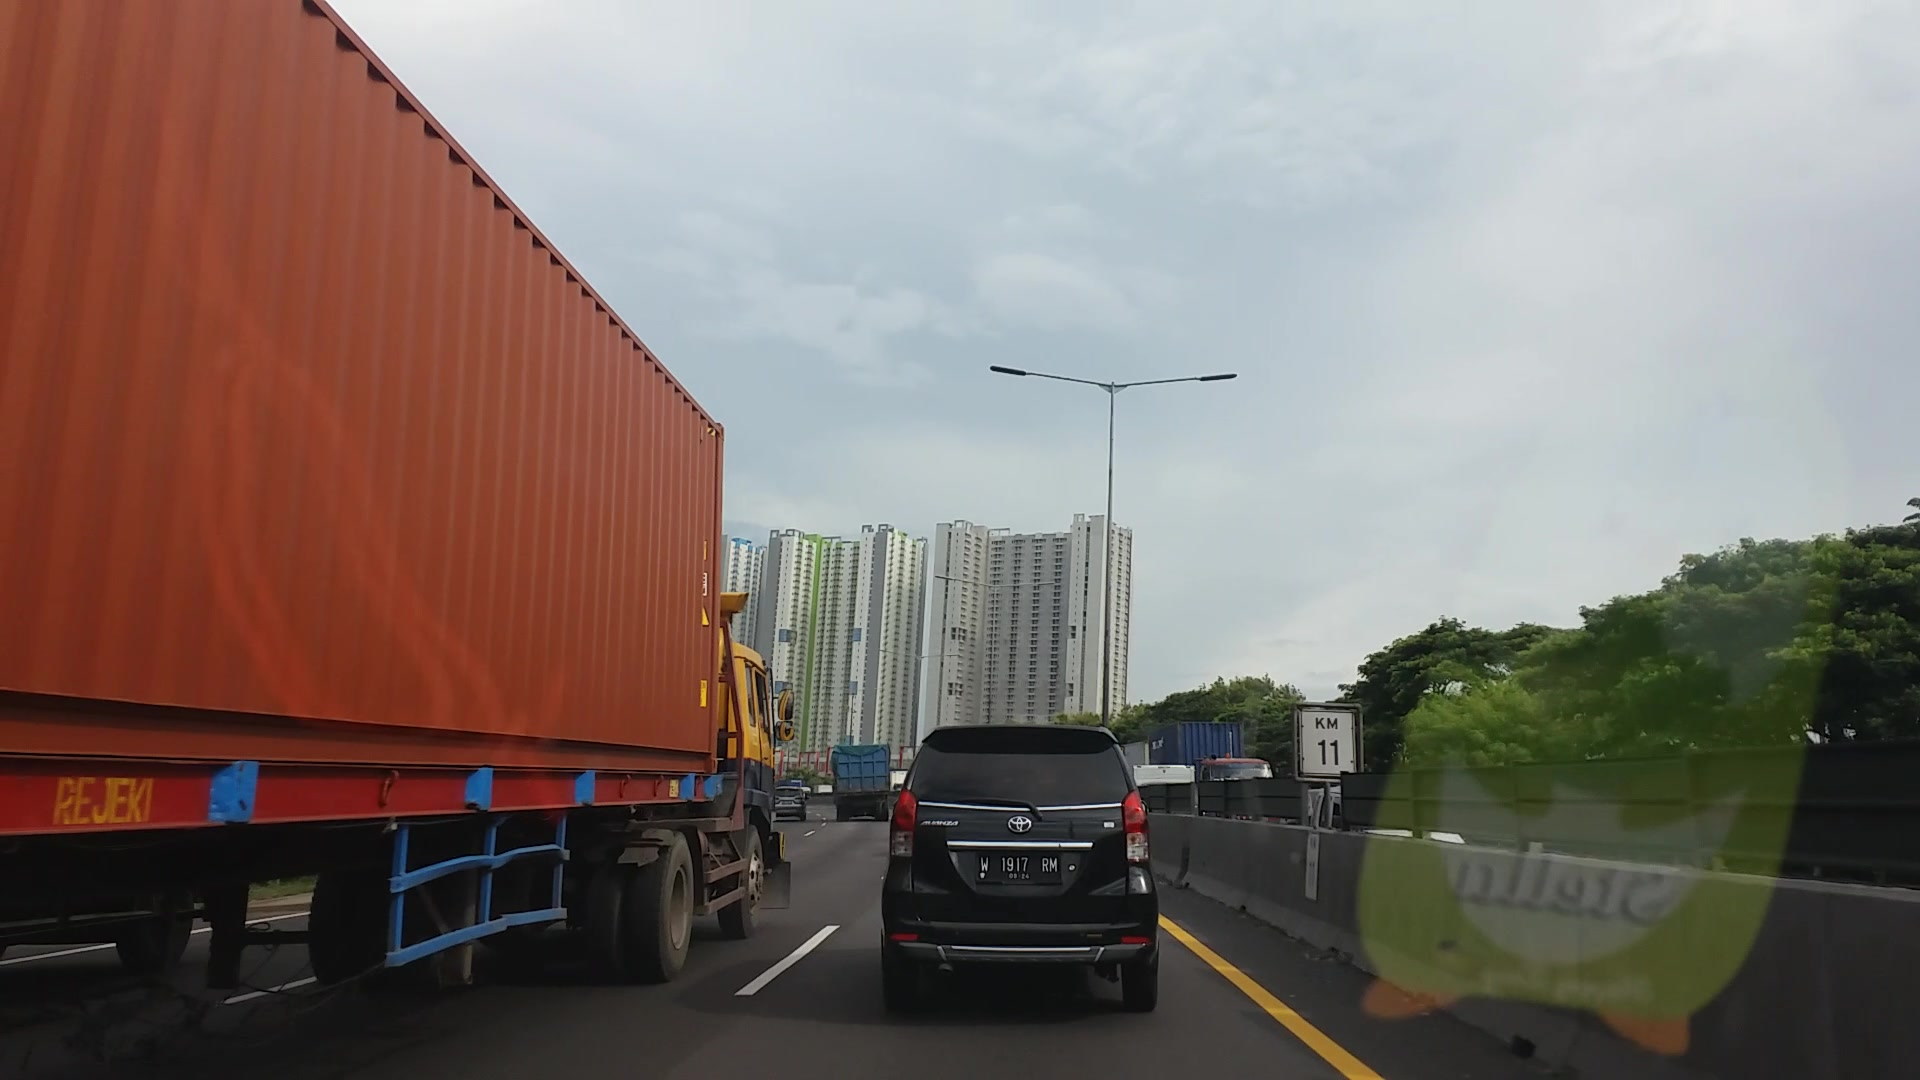plate_positive: (976, 851, 1063, 885)
